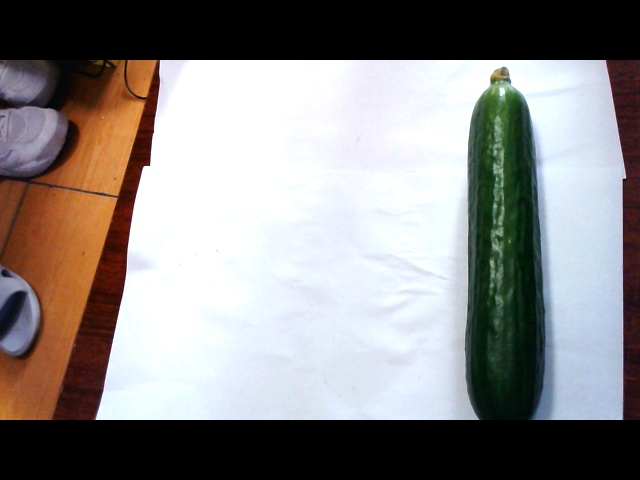cucumber: (458, 68, 548, 419)
